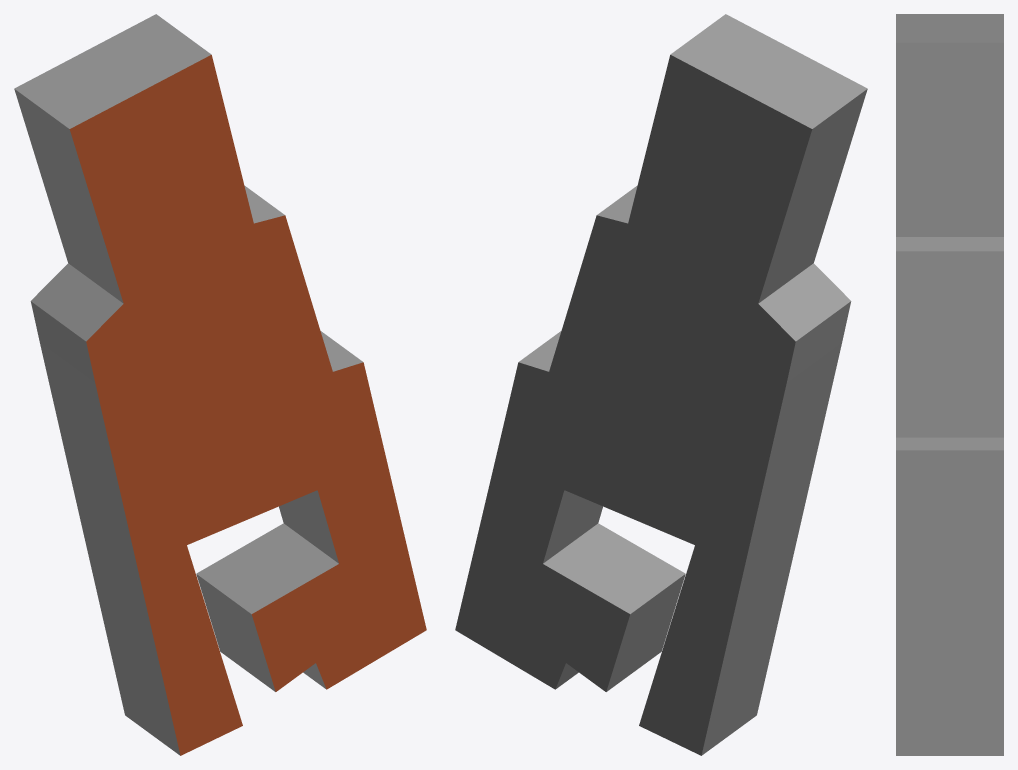
Rendered from construction_6146_assumed_A_Casa_h6m.obj.
3 renders of one model, left to right at view 1: azimuth 30°, elevation 25°; view 2: azimuth 150°, elevation 25°; view 3: azimuth 270°, elevation 25°, orthographic. The views are drawn at different scales.
Visible parts, largest first — view 1: construction_6146_assumed_A_Casa; view 2: construction_6146_assumed_A_Casa; view 3: construction_6146_assumed_A_Casa.
Part boxes in pixels (x1,y1,x2,y2): construction_6146_assumed_A_Casa: (14,14,426,755); construction_6146_assumed_A_Casa: (455,14,867,755); construction_6146_assumed_A_Casa: (896,14,1003,755).
Bounding box in the file's own units: 22.3 × 41.4 × 6.
